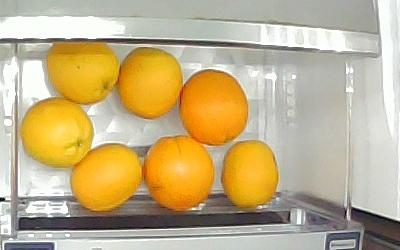orange: (178, 70, 249, 145), (21, 97, 94, 168), (144, 137, 214, 211), (69, 143, 143, 211), (119, 47, 184, 119), (46, 42, 119, 103), (222, 138, 281, 209)
